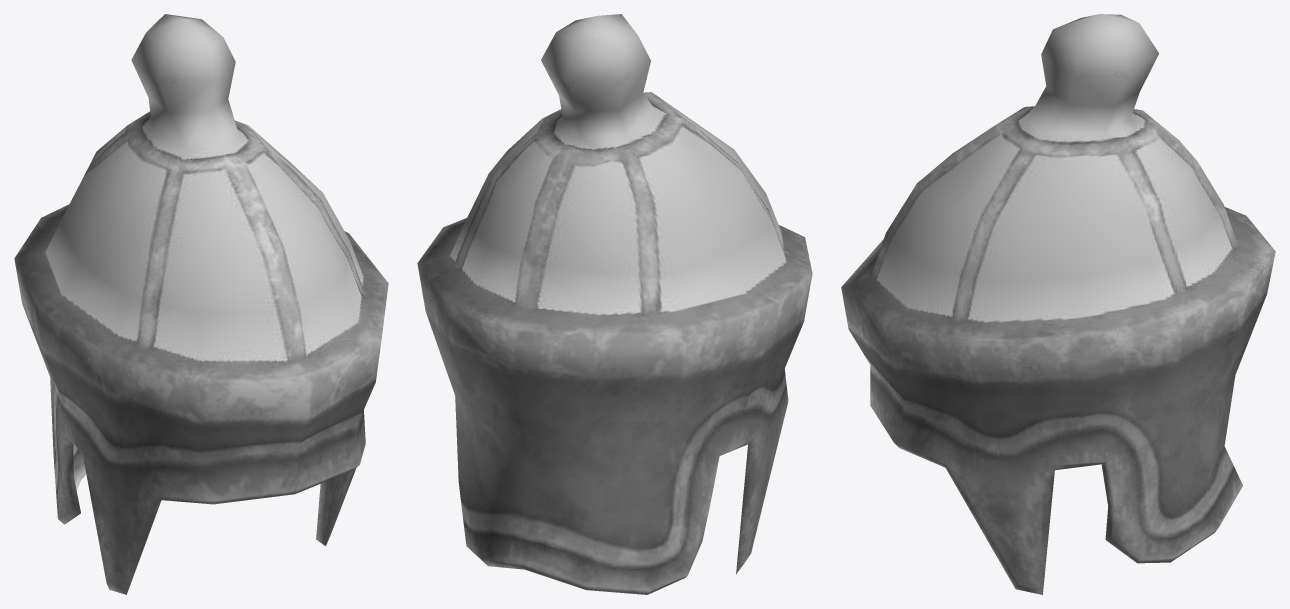
The model's file is helmet-championspearmen.glb.
3 renders of one model, left to right at view 1: azimuth 30°, elevation 25°; view 2: azimuth 150°, elevation 25°; view 3: azimuth 270°, elevation 25°, orthographic. The views are drawn at different scales.
Bounding box in the file's own units: 0.2611 × 0.4218 × 0.3134.
1 material, 1 textured.
